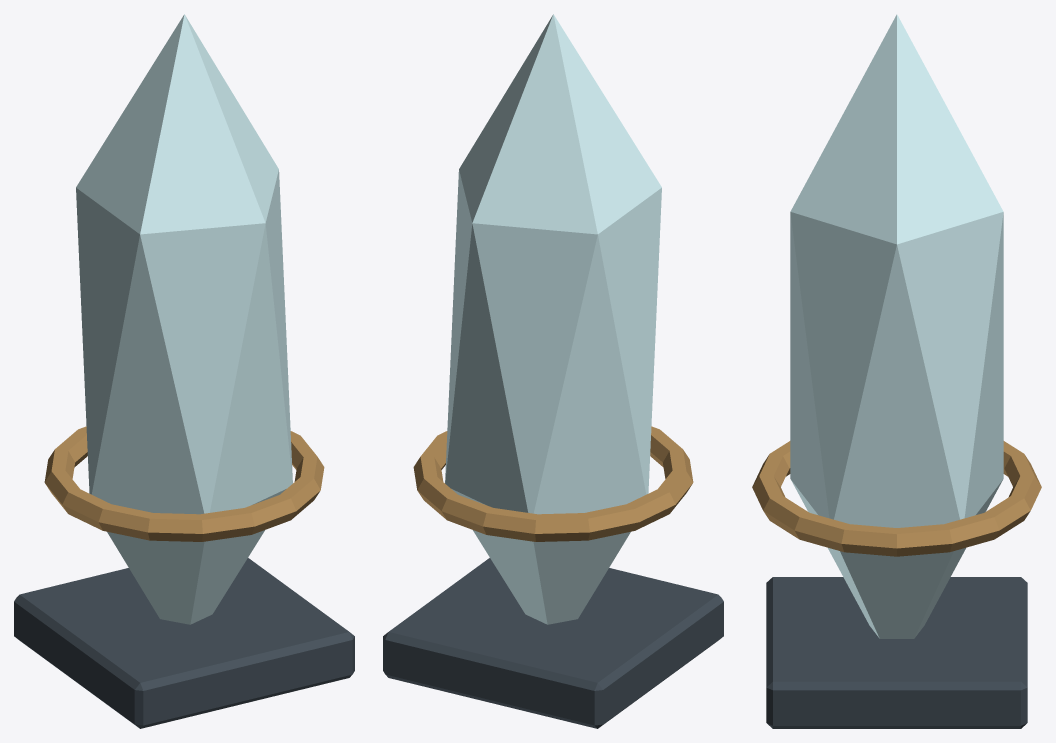
File: SH10_L06_FrozenObelisk.fbx
3 views of the same model, side by side, from view 1: azimuth 30°, elevation 25°; view 2: azimuth 150°, elevation 25°; view 3: azimuth 270°, elevation 25° (orthographic). The views are drawn at different scales.
Parts seen in each view (by area): view 1: SH10_L06_FrozenObelisk; view 2: SH10_L06_FrozenObelisk; view 3: SH10_L06_FrozenObelisk.
Boxes of the visible parts, left/top/right/bottom form: SH10_L06_FrozenObelisk: left=14, top=14, right=354, bottom=728; SH10_L06_FrozenObelisk: left=383, top=14, right=723, bottom=728; SH10_L06_FrozenObelisk: left=752, top=14, right=1041, bottom=728.
Size of the model in its own units: 111 by 280 by 111.
